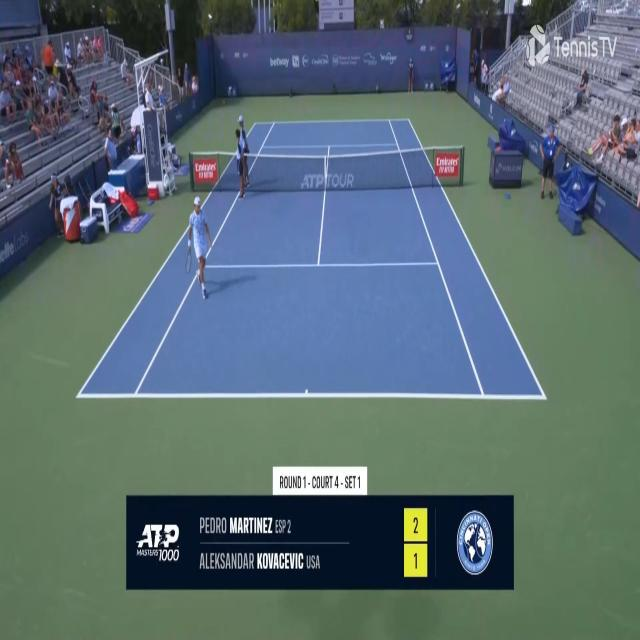tennis-player: (185, 186, 214, 302)
